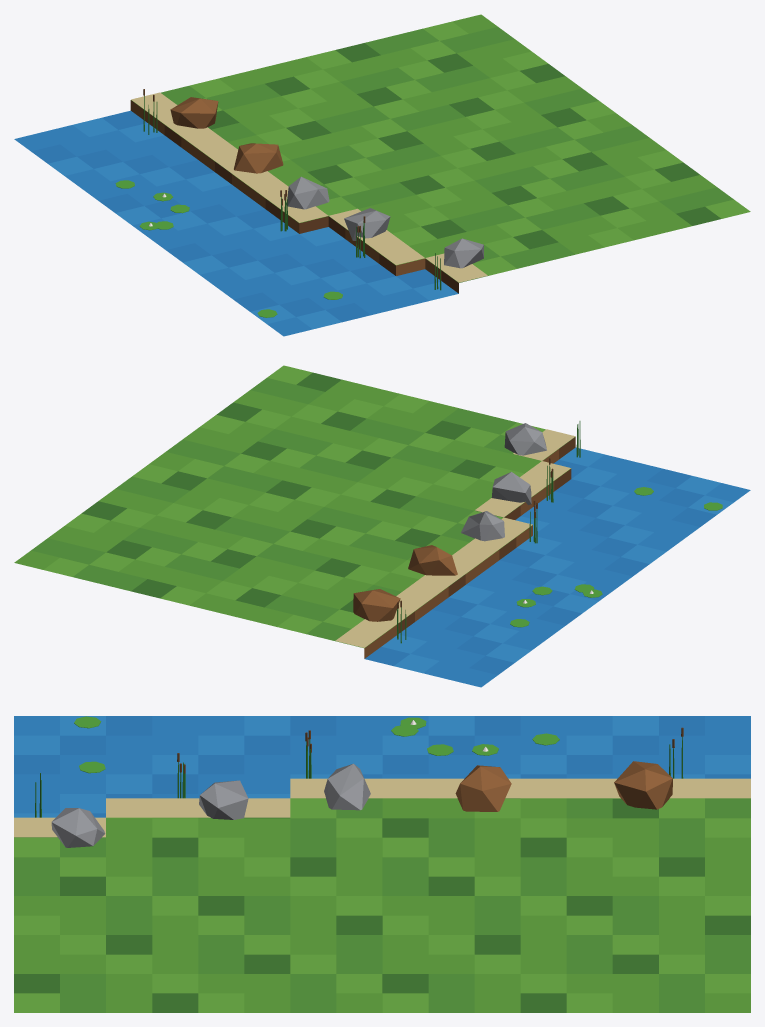
The model's file is chunk_4_7.glb.
The picture shows the model from 3 angles, top to bottom: view 1: azimuth 30°, elevation 25°; view 2: azimuth 150°, elevation 25°; view 3: azimuth 270°, elevation 25°; orthographic projection. The views are drawn at different scales.
Parts seen in each view (by area): view 1: chunk_4_7; view 2: chunk_4_7; view 3: chunk_4_7.
Part boxes in pixels (bbox=[...]): chunk_4_7: bbox=[14, 14, 750, 336]; chunk_4_7: bbox=[14, 365, 750, 687]; chunk_4_7: bbox=[14, 716, 750, 1012].
Size of the model in its own units: 16 by 1.58 by 16.
